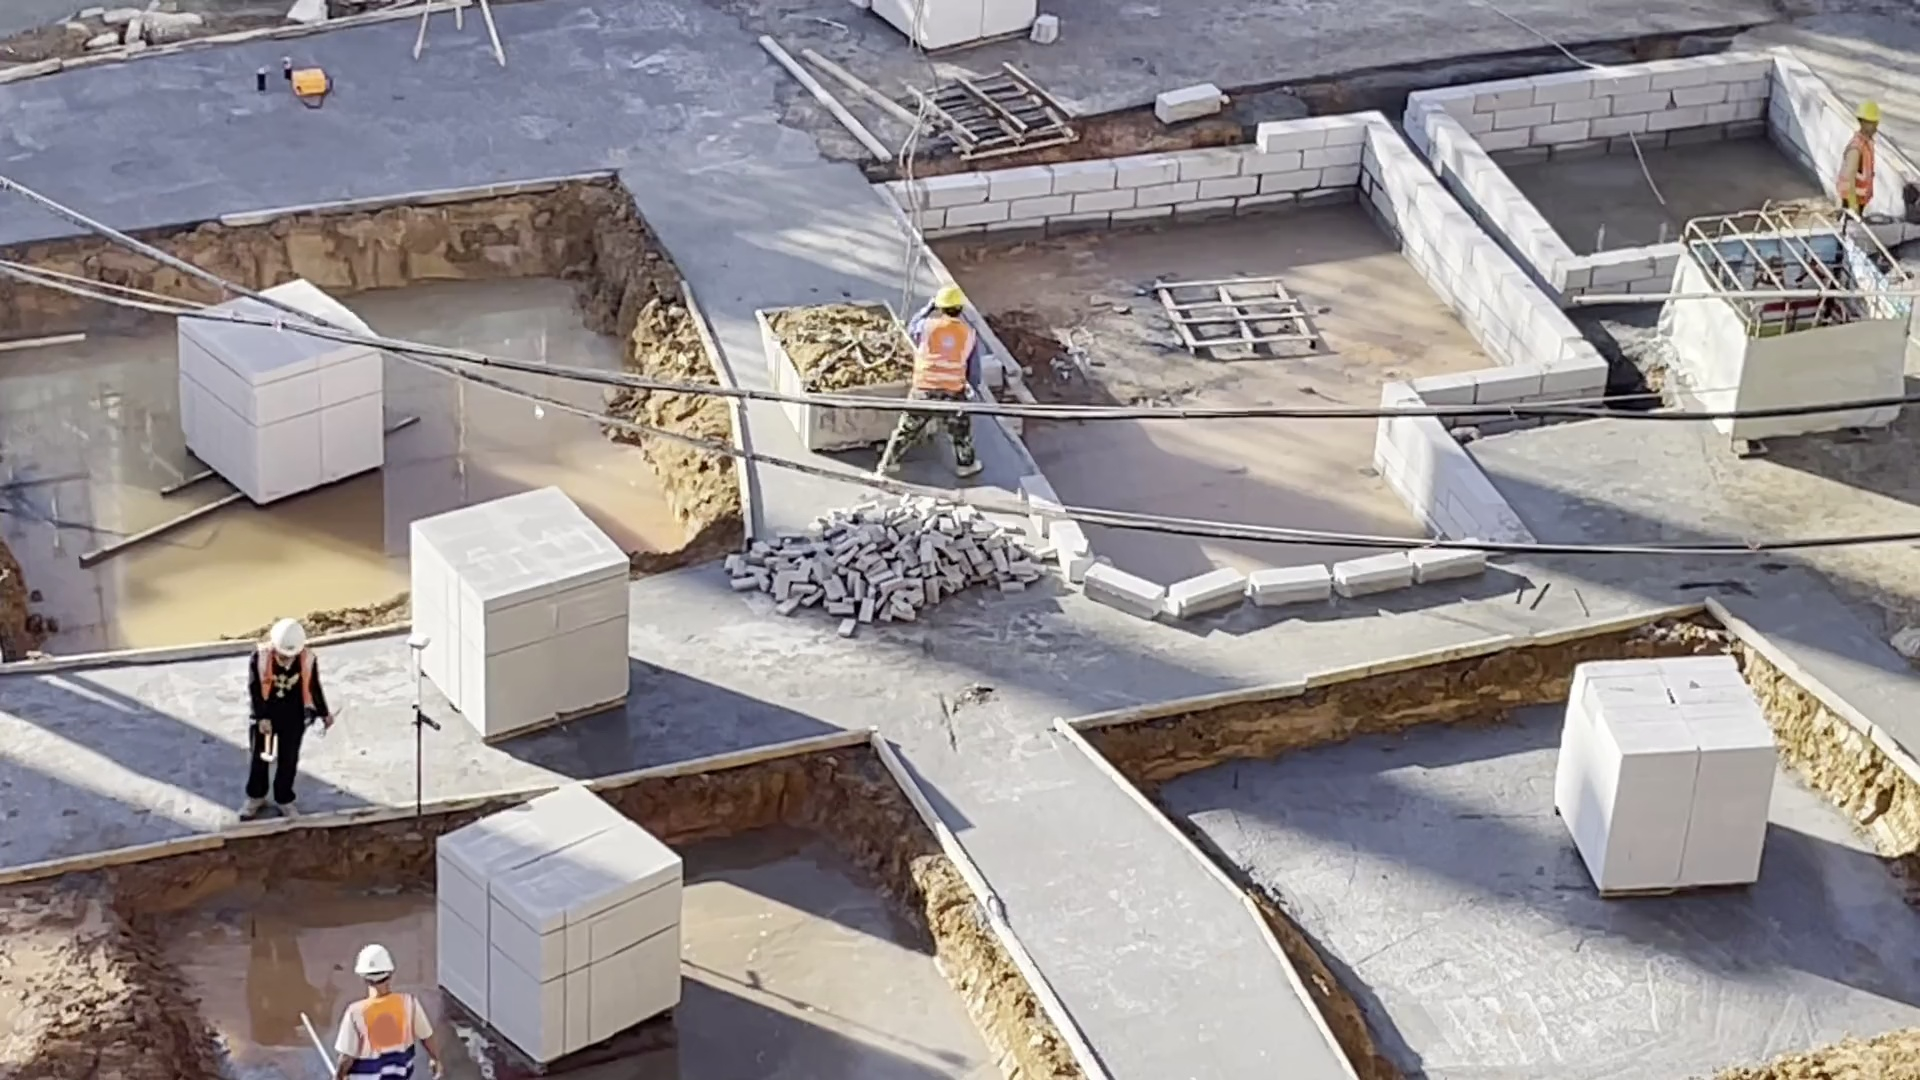brick: (439, 783, 684, 1060), (404, 471, 635, 745), (1546, 643, 1780, 901), (167, 343, 389, 517), (866, 5, 1048, 54)
helmet: (352, 940, 397, 984)
hopper: (755, 294, 904, 397)
person: (226, 615, 337, 824), (869, 285, 985, 483), (306, 937, 450, 1080), (1821, 94, 1889, 224)
vest: (342, 992, 417, 1079), (914, 320, 980, 393), (251, 647, 315, 711), (1835, 134, 1878, 202)
